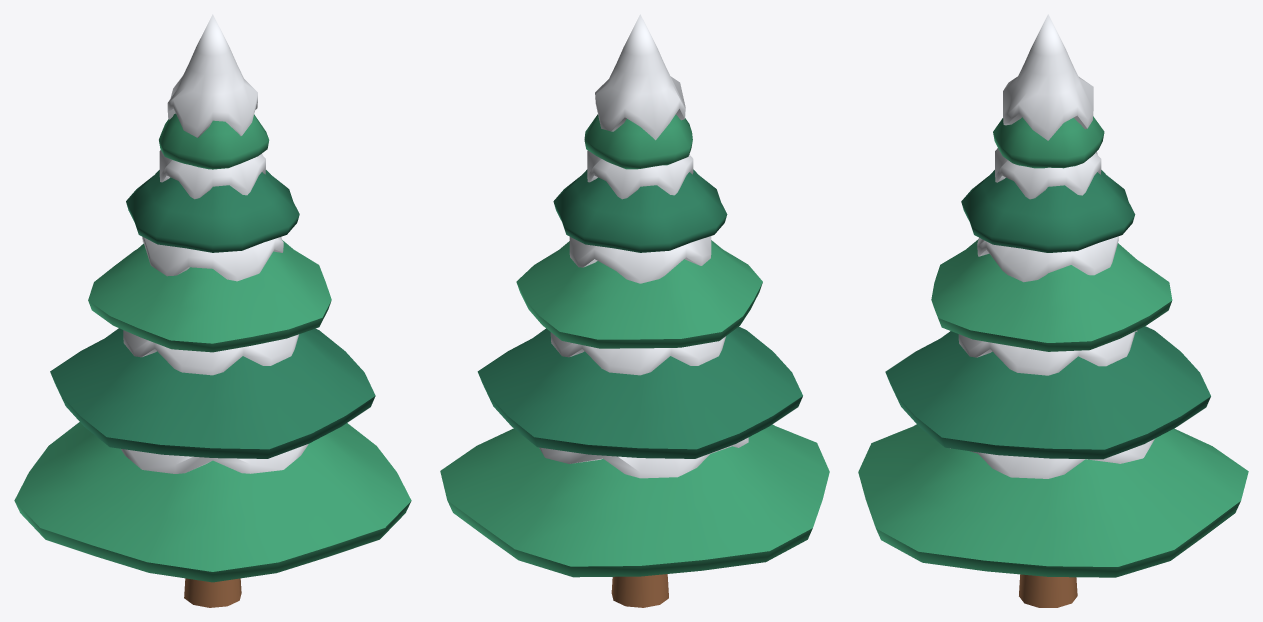
The model's file is pine_snow.glb.
3 views of the same model, side by side, from view 1: azimuth 30°, elevation 25°; view 2: azimuth 150°, elevation 25°; view 3: azimuth 270°, elevation 25° (orthographic).
Parts seen in each view (by area): view 1: pine_snow; view 2: pine_snow; view 3: pine_snow.
Boxes of the visible parts, bbox=[...] form: pine_snow: bbox=[14, 14, 411, 607]; pine_snow: bbox=[440, 14, 829, 607]; pine_snow: bbox=[858, 14, 1248, 607].
Bounding box in the file's own units: 3.72 × 6.11 × 3.72.
